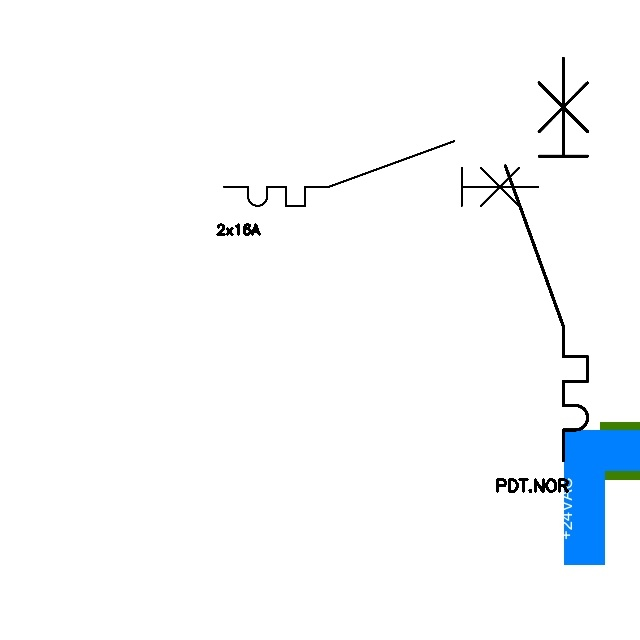interruptor_termomagnetico: (495, 48, 598, 471), (216, 133, 546, 214)
